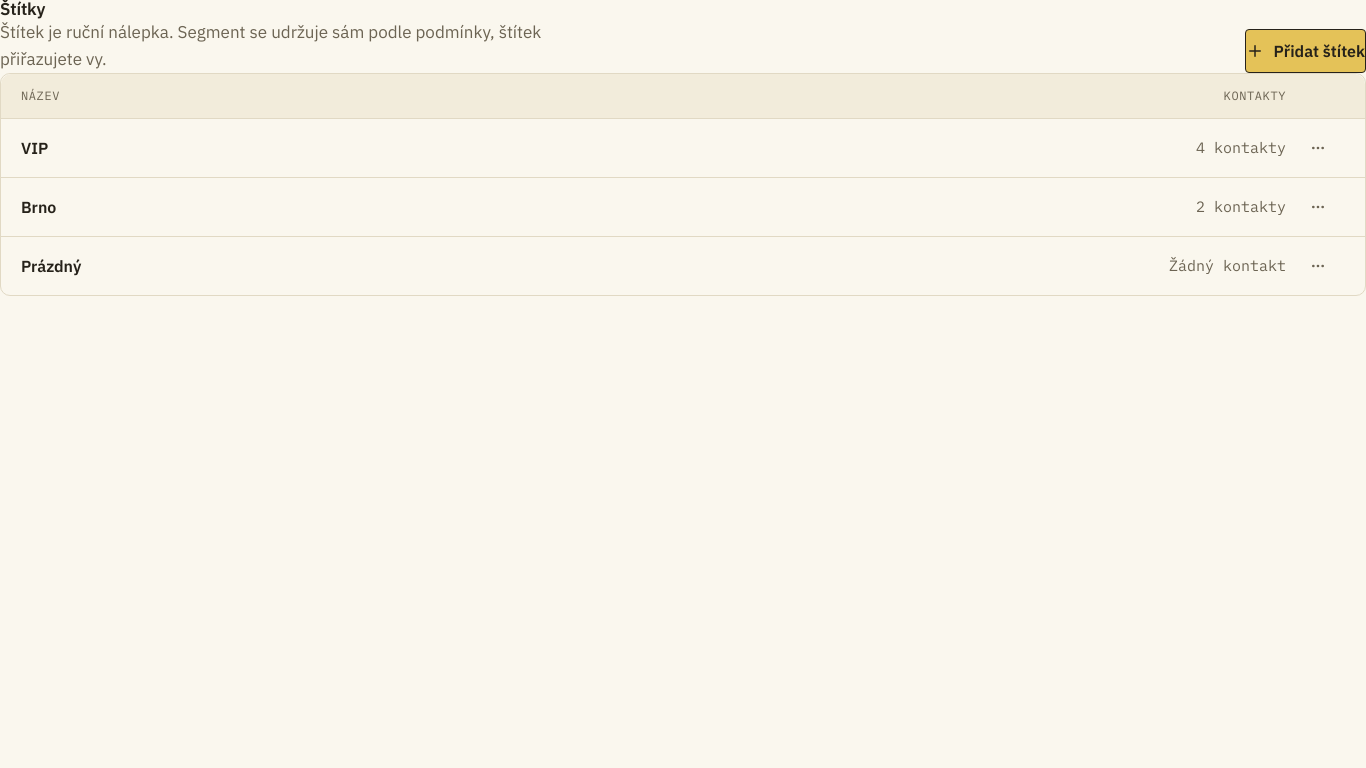
TagsScreen › do sebe sama sloučit nejde, nabídka cíle sebe nenabízí
Click the button named "Další akce se štítkem VIP": (1318, 148) [1301, 131, 1335, 165]
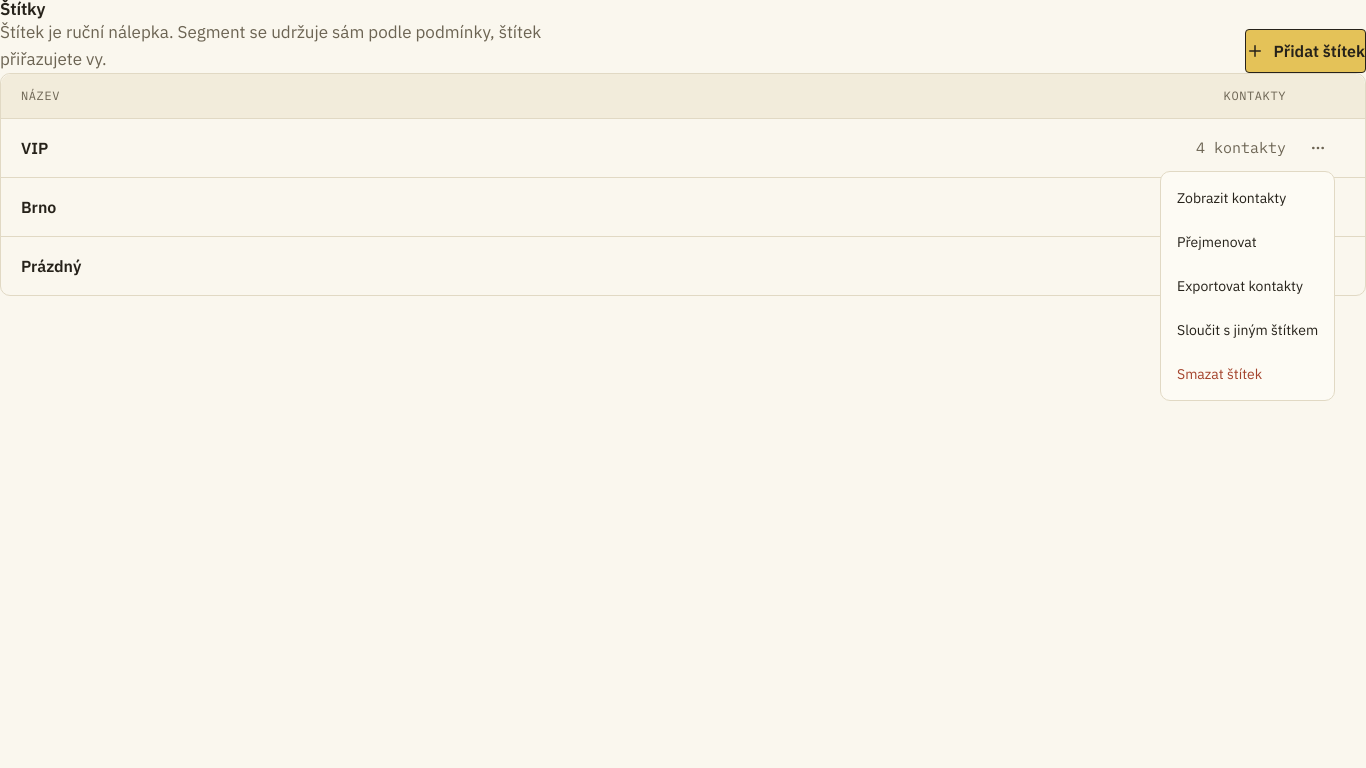
Click the menu item "Sloučit s jiným štítkem": (1248, 330) [1177, 321, 1318, 339]
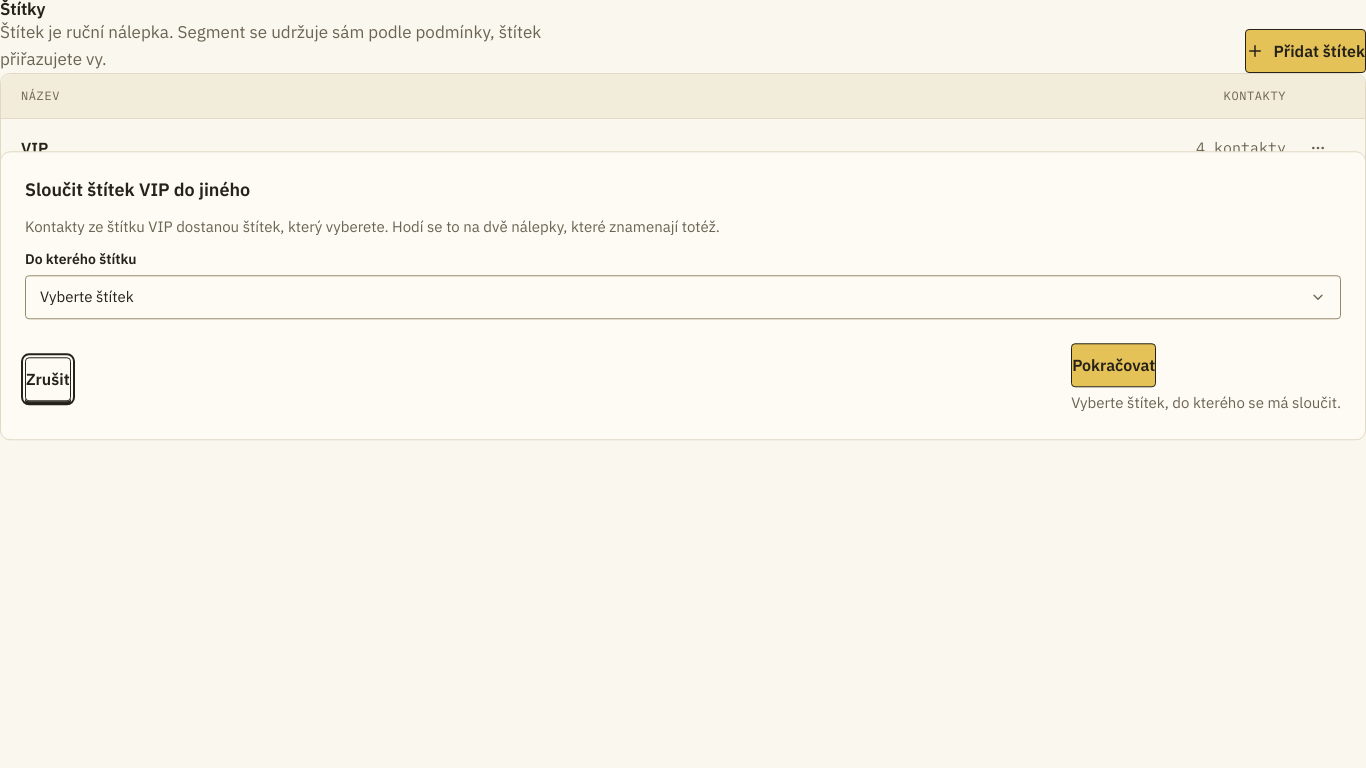
Click the dropdown named "Do kterého štítku": (87, 297) [25, 275, 1341, 319]
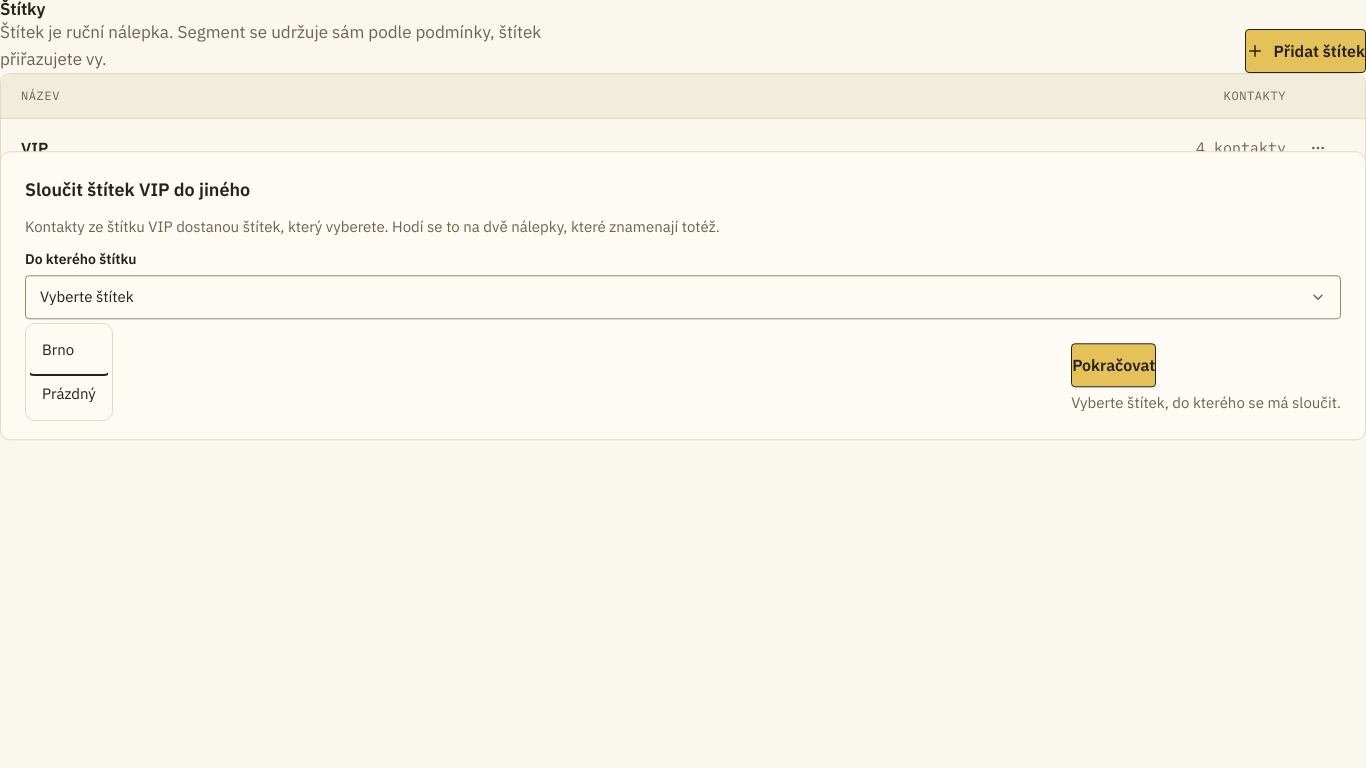
Expected: the option "Brno" is shown, [42, 340, 74, 359]
